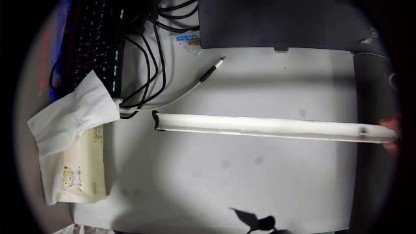gangzhu: (356, 125, 370, 137)
